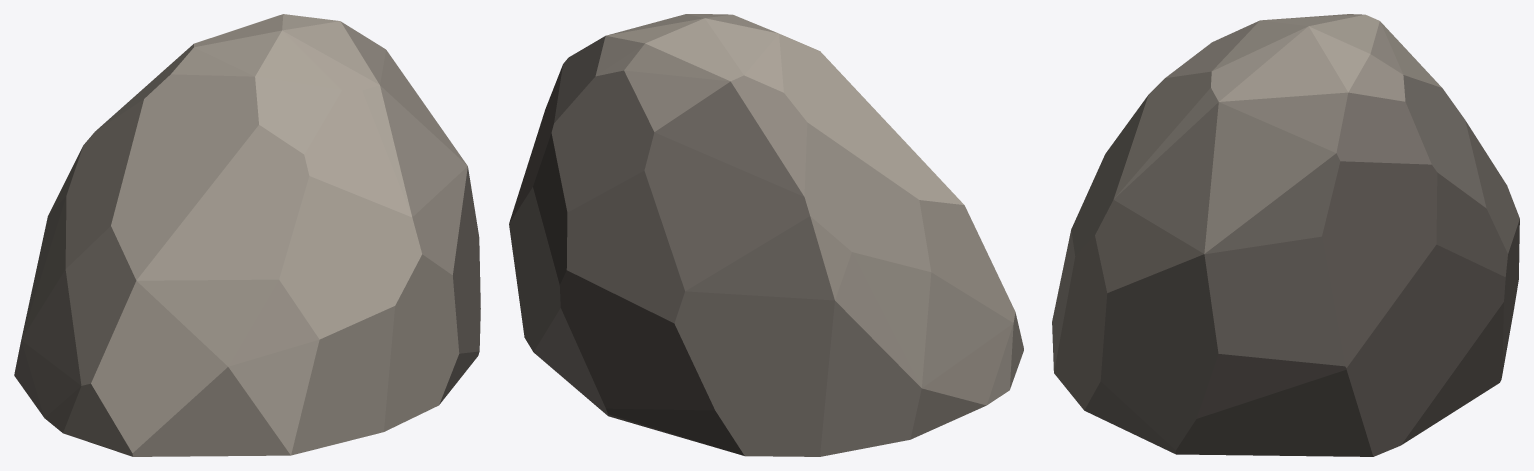
The model's file is FMS_Rock_L.fbx.
3 views of the same model, side by side, from view 1: azimuth 30°, elevation 25°; view 2: azimuth 150°, elevation 25°; view 3: azimuth 270°, elevation 25° (orthographic). The views are drawn at different scales.
Parts seen in each view (by area): view 1: FMS_Rock_L; view 2: FMS_Rock_L; view 3: FMS_Rock_L.
Part boxes in pixels (x1,y1,x2,y2): FMS_Rock_L: (14, 14, 480, 456); FMS_Rock_L: (509, 14, 1023, 456); FMS_Rock_L: (1052, 14, 1519, 456).
Bounding box in the file's own units: 1.4 × 1 × 1.2.
